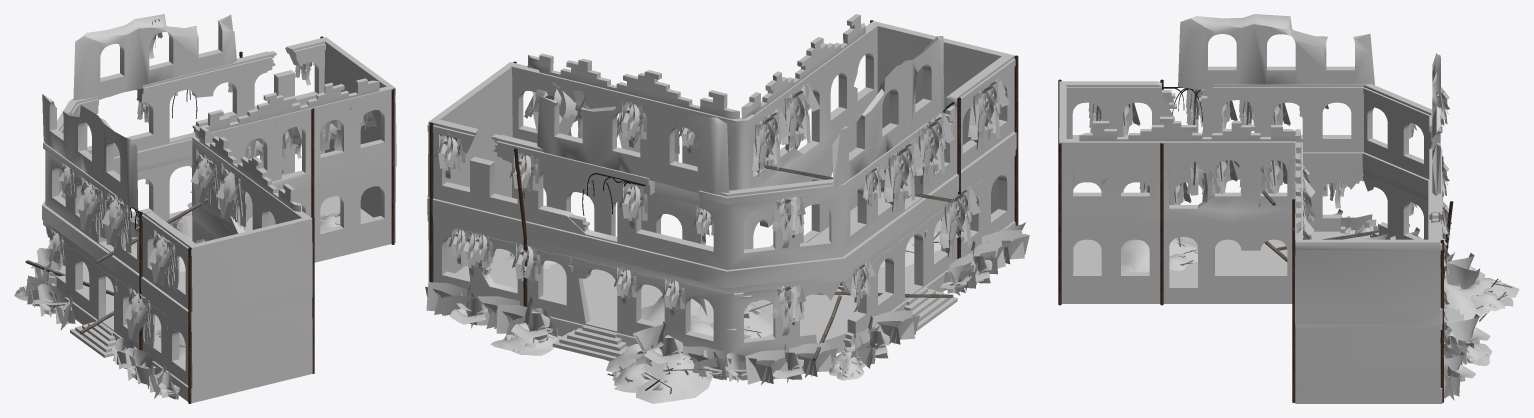
File: angleHouse2_LOD0.fbx
3 views of the same model, side by side, from view 1: azimuth 30°, elevation 25°; view 2: azimuth 150°, elevation 25°; view 3: azimuth 270°, elevation 25° (orthographic). The views are drawn at different scales.
Visible parts, largest first — view 1: angleHouse2_LOD0; view 2: angleHouse2_LOD0; view 3: angleHouse2_LOD0.
Part boxes in pixels (x1=…): angleHouse2_LOD0: x1=14, y1=14, x2=396, y2=403; angleHouse2_LOD0: x1=425, y1=14, x2=1029, y2=403; angleHouse2_LOD0: x1=1058, y1=14, x2=1519, y2=403.
Bounding box in the file's own units: 17.28 × 10.91 × 19.09.
